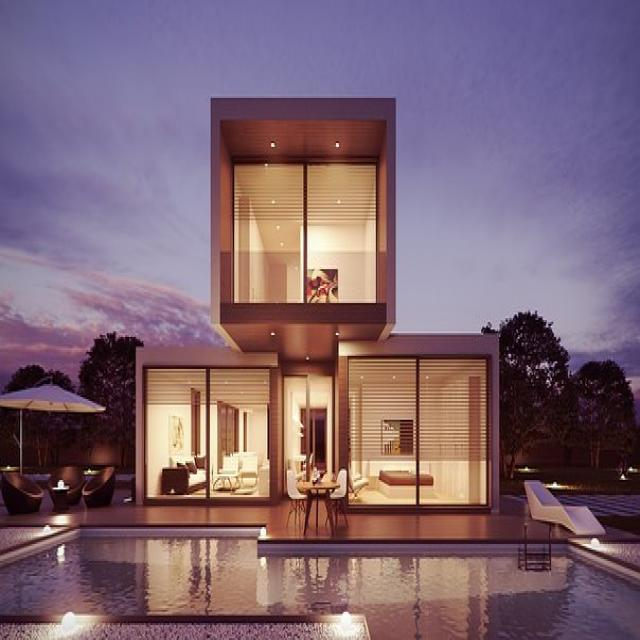Normal_building: (128, 87, 508, 530)
